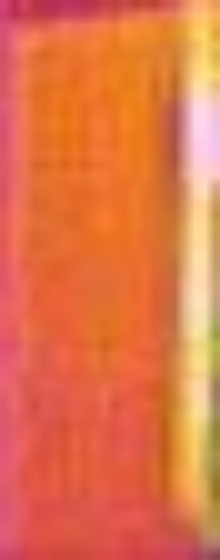Diode: (168, 4, 215, 534)
